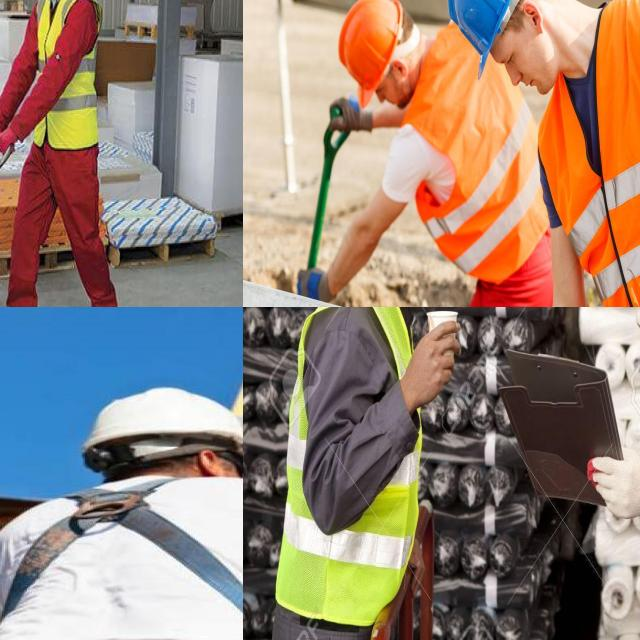Harness: (1, 481, 243, 619)
No_Ear-Protection: (517, 0, 544, 33)
face_nomask: (486, 19, 556, 98), (369, 70, 406, 112)
hand_glove: (589, 433, 640, 534), (320, 93, 377, 146), (291, 256, 335, 307), (0, 122, 19, 159)
hand_noglove: (400, 325, 463, 413)
head_helmet: (338, 0, 404, 93), (444, 0, 539, 58)
person: (301, 0, 553, 307), (276, 307, 467, 640), (0, 0, 131, 307)
vest: (285, 307, 421, 626), (404, 46, 550, 274), (542, 0, 640, 307), (34, 0, 101, 155)
